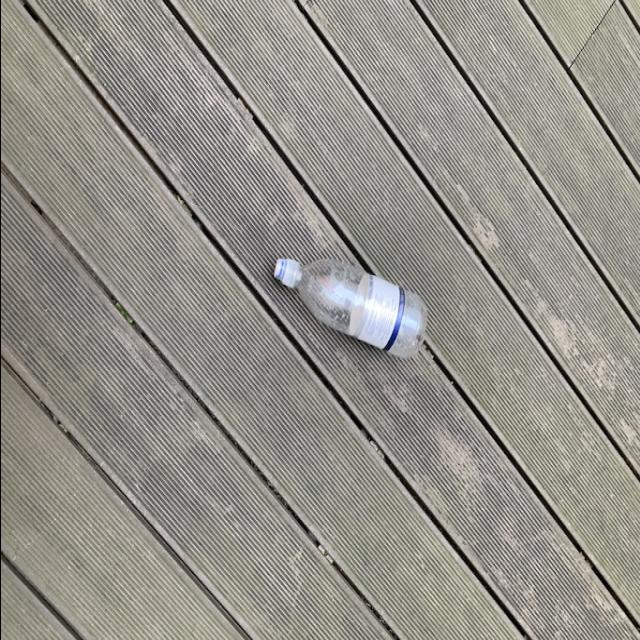PET: (268, 254, 430, 362)
